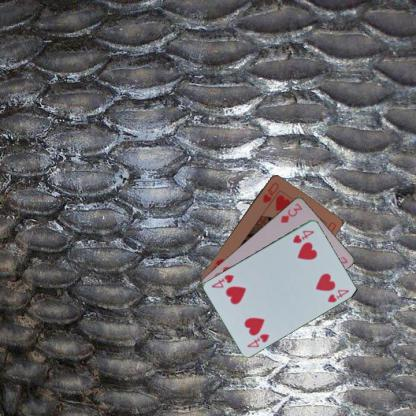3d: (278, 200, 304, 224)
4h: (244, 331, 270, 348), (290, 228, 316, 244)
Qh: (260, 180, 280, 204)
